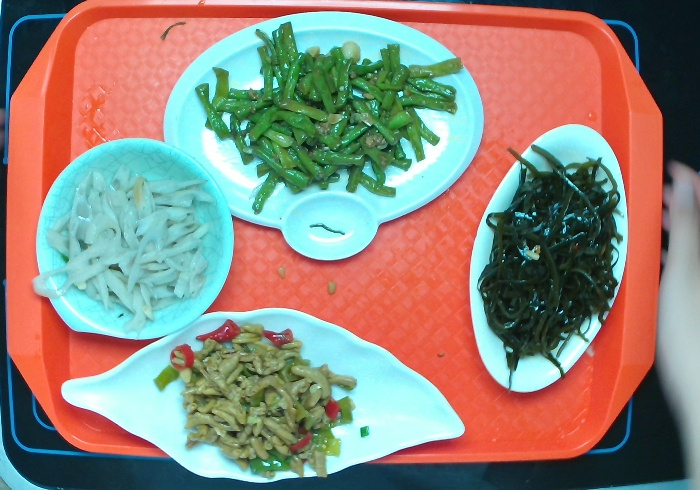RJxy-Bai_Se_Tuo_Yuan: (467, 121, 630, 394)
RJxy-Shu_Ye_Pan: (59, 305, 466, 484)
RJxy-Xiao_Jiao_Yuan_Wan: (33, 135, 236, 342)
RJxy-Zhan_Liao_Pan: (161, 7, 485, 263)
